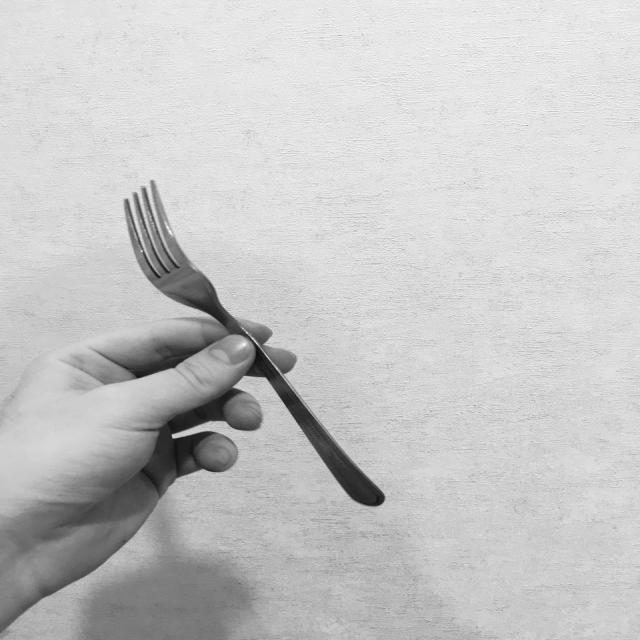fork: (119, 181, 388, 508)
